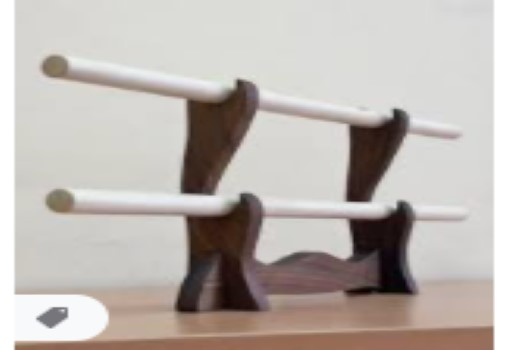baston_e: (73, 65, 454, 131), (73, 183, 453, 220)
baston_v: (29, 39, 79, 83), (41, 178, 77, 224), (449, 195, 472, 240), (442, 113, 464, 151)
